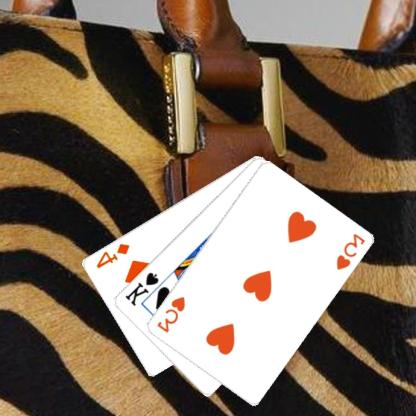3H: (334, 231, 368, 271), (156, 294, 188, 334)
4D: (94, 240, 132, 269)
KS: (124, 270, 162, 308)
